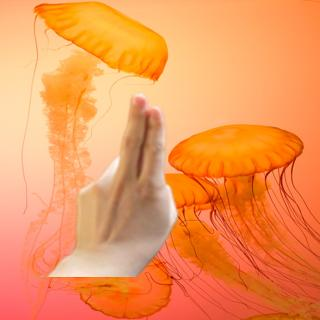DHAVE: (65, 90, 180, 257)
